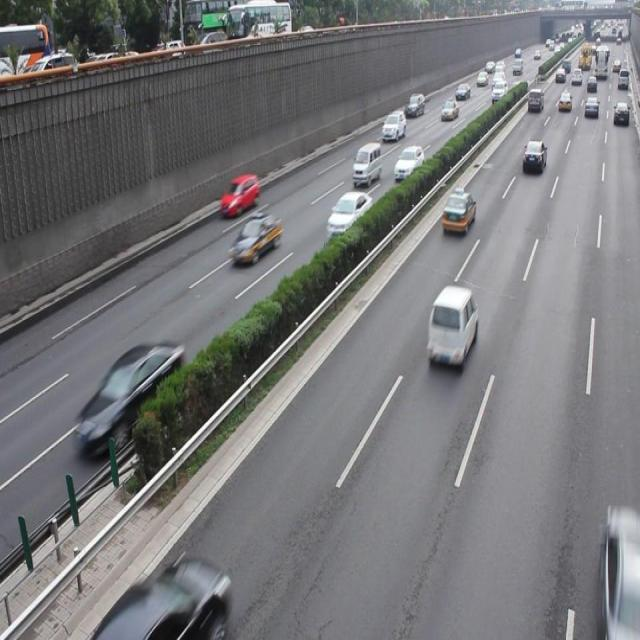car: (75, 340, 184, 454), (97, 553, 232, 640), (598, 500, 640, 640), (228, 211, 281, 264), (326, 188, 372, 238), (220, 173, 257, 215), (440, 190, 475, 234), (393, 144, 425, 182), (521, 140, 546, 172)
truck: (426, 283, 477, 365), (352, 142, 381, 186)
